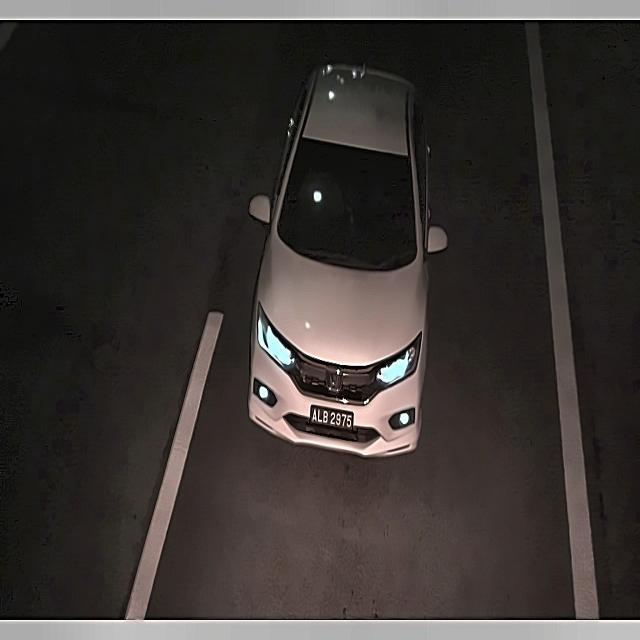car: (307, 402, 356, 437)
